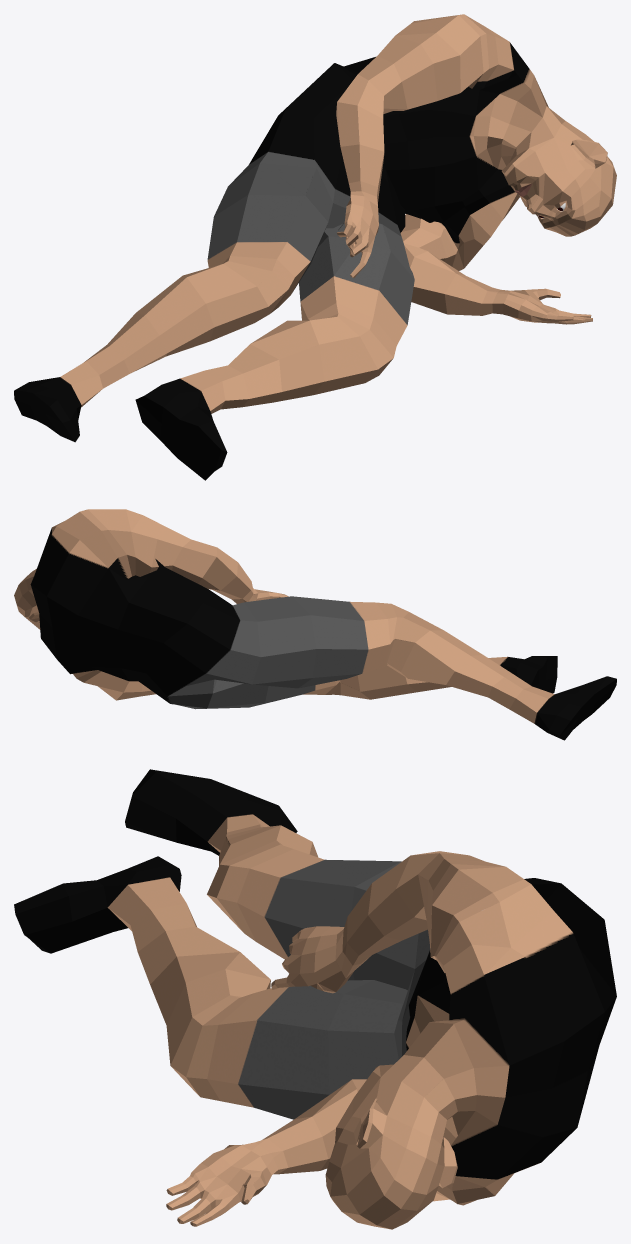
Rendered from PlayerDead(82).obj.
The picture shows the model from 3 angles, top to bottom: view 1: azimuth 30°, elevation 25°; view 2: azimuth 150°, elevation 25°; view 3: azimuth 270°, elevation 25°; orthographic projection. The views are drawn at different scales.
Parts seen in each view (by area): view 1: Plane002; view 2: Plane002; view 3: Plane002.
Boxes of the visible parts, x1,y1,x2,y2 form: Plane002: (14,14,616,480); Plane002: (14,509,616,740); Plane002: (14,769,616,1229).
Size of the model in its own units: 1569 by 562 by 906.
